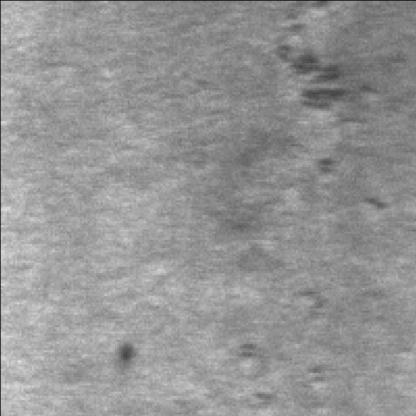rolled-in_scale: (278, 2, 380, 187), (241, 297, 332, 416)
